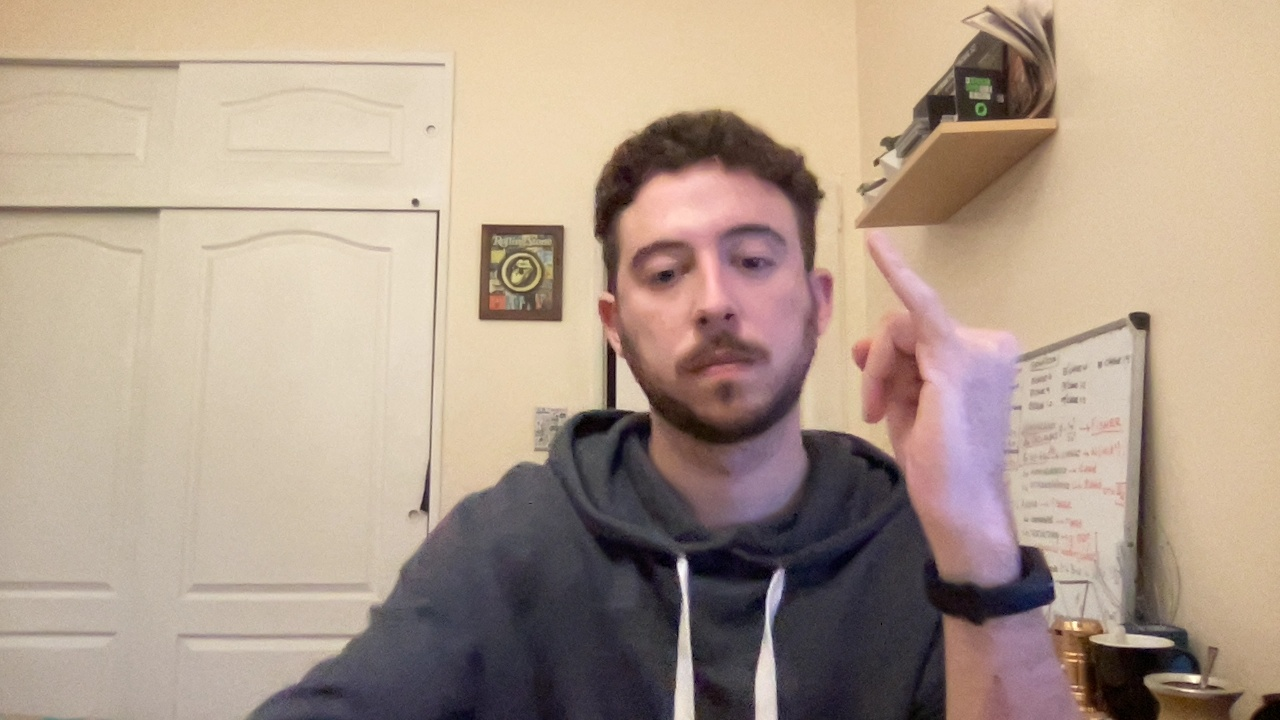menique: (842, 226, 1040, 498)
